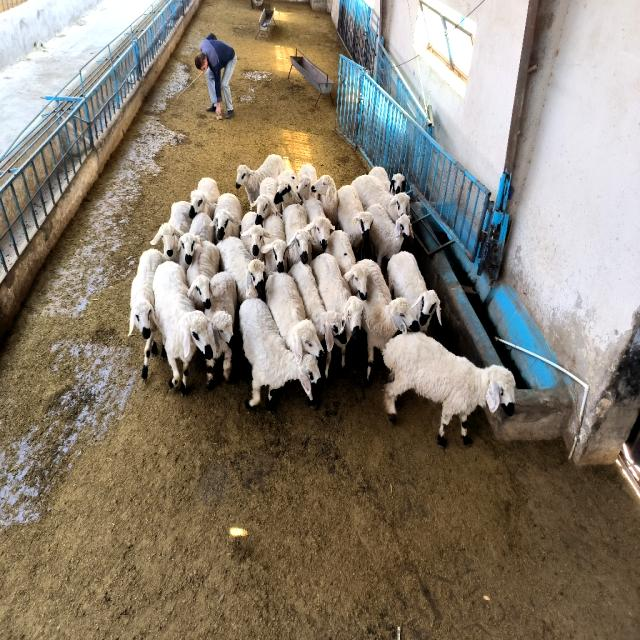sheep: (382, 332, 515, 448), (239, 298, 320, 407), (356, 258, 420, 384), (289, 262, 346, 378), (311, 253, 364, 368), (266, 273, 322, 363), (128, 248, 166, 380), (388, 252, 441, 331), (204, 272, 236, 388), (216, 237, 265, 304), (368, 203, 414, 266), (351, 175, 410, 222), (326, 230, 366, 299), (150, 202, 191, 262), (186, 240, 220, 311), (236, 153, 285, 201), (338, 185, 374, 249), (178, 213, 215, 272), (282, 203, 314, 268), (302, 197, 335, 256), (261, 213, 288, 273), (240, 212, 271, 259), (311, 175, 339, 225), (214, 193, 242, 241), (189, 178, 220, 219), (251, 177, 279, 222), (274, 170, 301, 209), (369, 167, 406, 194), (298, 163, 318, 202)
